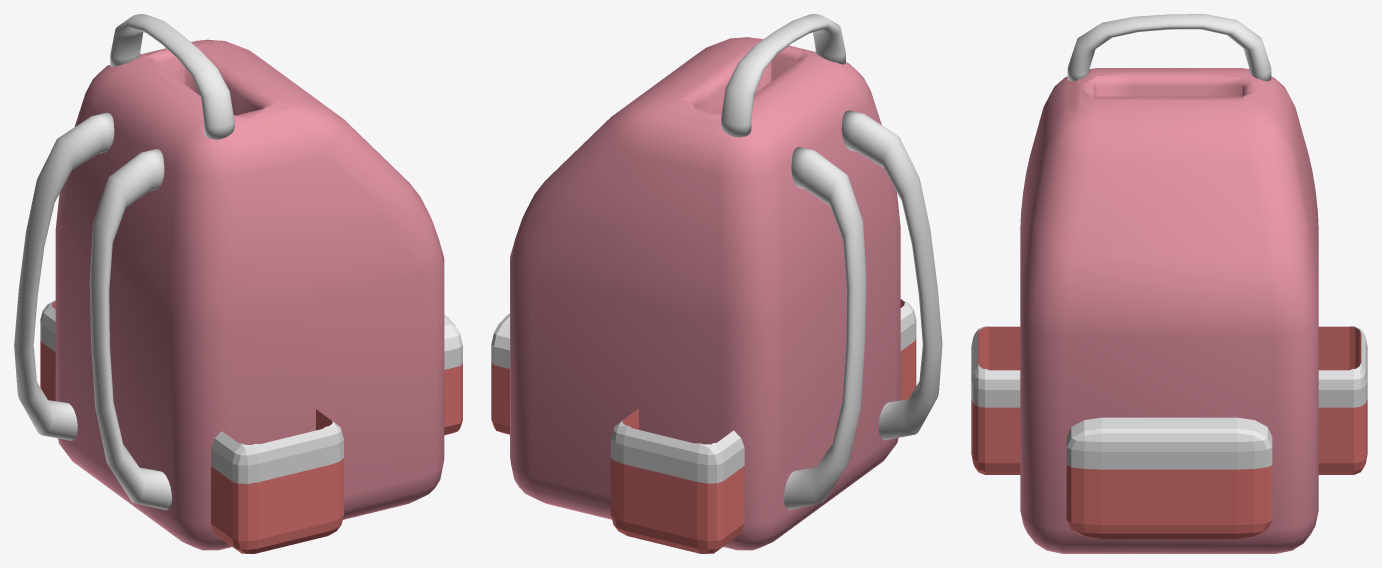
File: backpack_3.fbx
3 renders of one model, left to right at view 1: azimuth 30°, elevation 25°; view 2: azimuth 150°, elevation 25°; view 3: azimuth 270°, elevation 25°, orthographic. The views are drawn at different scales.
Visible parts, largest first — view 1: Cube, Cube.003, Cylinder.003, Cylinder.004, Cylinder.001, Cube.002, Cube.005; view 2: Cube, Cube.005, Cylinder.004, Cylinder.003, Cylinder.001, Cube.002, Cube.003; view 3: Cube, Cube.002, Cube.003, Cube.005, Cylinder.001.
Boxes of the visible parts, left/top/right/bottom form: Cube: left=55, top=39, right=444, bottom=550; Cube.003: left=211, top=409, right=343, bottom=553; Cylinder.003: left=89, top=149, right=171, bottom=510; Cylinder.004: left=14, top=112, right=114, bottom=440; Cylinder.001: left=110, top=14, right=234, bottom=139; Cube.002: left=444, top=314, right=462, bottom=435; Cube.005: left=40, top=300, right=55, bottom=400; Cube: left=510, top=37, right=900, bottom=550; Cube.005: left=611, top=408, right=744, bottom=553; Cylinder.004: left=783, top=147, right=866, bottom=509; Cylinder.003: left=841, top=110, right=942, bottom=440; Cylinder.001: left=721, top=14, right=845, bottom=137; Cube.002: left=491, top=313, right=509, bottom=434; Cube.003: left=900, top=299, right=916, bottom=400; Cube: left=1020, top=68, right=1318, bottom=553; Cube.002: left=1066, top=417, right=1272, bottom=538; Cube.003: left=971, top=326, right=1020, bottom=474; Cube.005: left=1318, top=326, right=1367, bottom=474; Cylinder.001: left=1067, top=14, right=1271, bottom=81.
Bounding box in the file's own units: 268 × 335 × 266.
